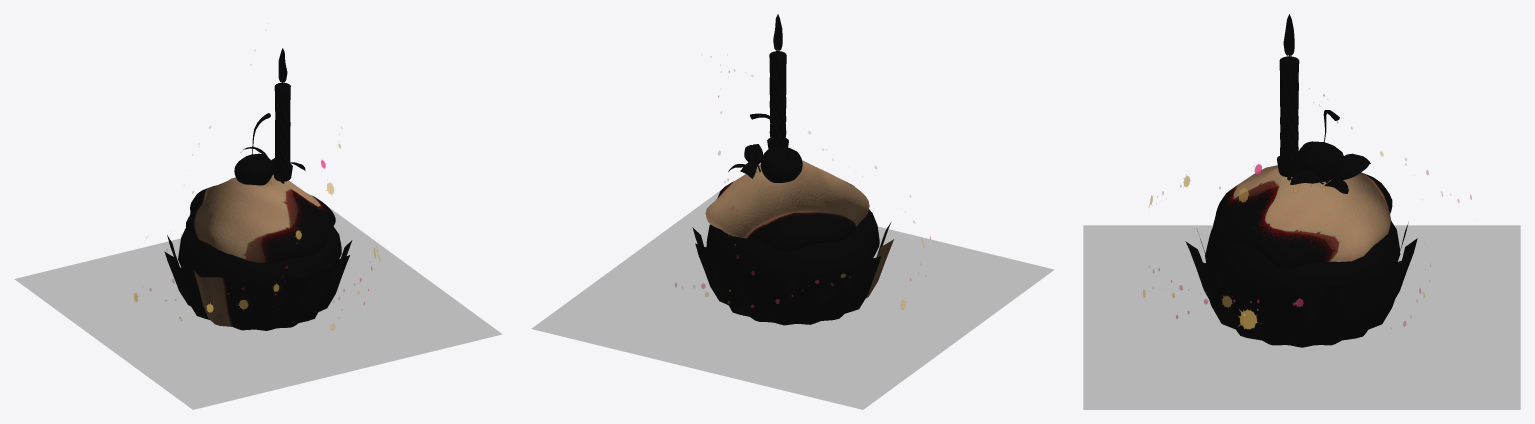
The picture shows the model from 3 angles, left to right: view 1: azimuth 30°, elevation 25°; view 2: azimuth 150°, elevation 25°; view 3: azimuth 270°, elevation 25°; orthographic projection. The views are drawn at different scales.
Visible parts, largest first — view 1: Ground_1, Cake_0, FX_2; view 2: Ground_1, Cake_0; view 3: Ground_1, Cake_0, FX_2.
Part boxes in pixels (box(x1,y1,x2,y2)): Ground_1: box(14, 206, 502, 409); Cake_0: box(164, 48, 352, 330); FX_2: box(133, 50, 380, 330); Ground_1: box(531, 189, 1054, 409); Cake_0: box(692, 14, 893, 325); Ground_1: box(1083, 225, 1520, 409); Cake_0: box(1185, 14, 1417, 347); FX_2: box(1143, 88, 1471, 329).
Bounding box in the file's own units: 0.2593 × 0.2066 × 0.2593.
